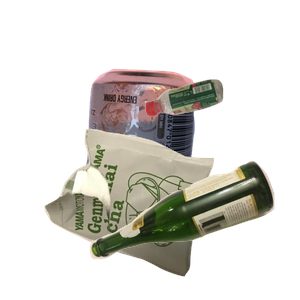glass: (87, 158, 300, 300)
metal: (82, 66, 270, 246)
plastic: (142, 77, 300, 186)
trash: (42, 126, 249, 300)
